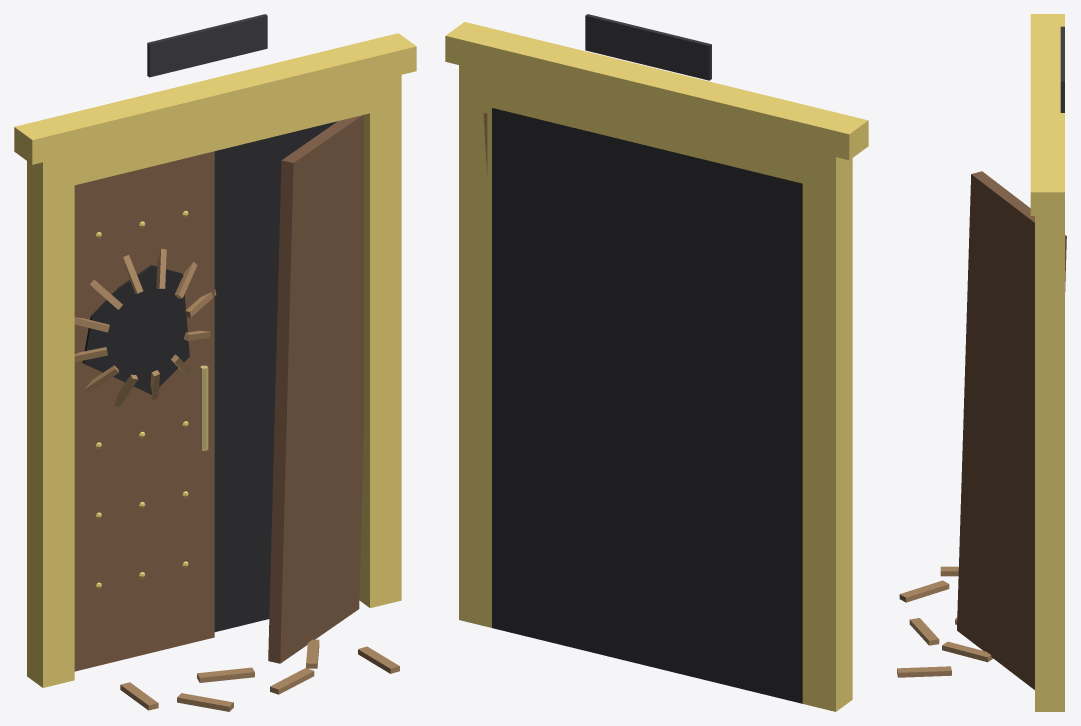
The model's file is HJ_PuertaAticoRota.fbx.
3 views of the same model, side by side, from view 1: azimuth 30°, elevation 25°; view 2: azimuth 150°, elevation 25°; view 3: azimuth 270°, elevation 25° (orthographic). The views are drawn at different scales.
Visible parts, largest first — view 1: HJ_PuertaAticoRota; view 2: HJ_PuertaAticoRota; view 3: HJ_PuertaAticoRota.
Part boxes in pixels (box(x1,y1,x2,y2)): HJ_PuertaAticoRota: box(14, 14, 416, 711); HJ_PuertaAticoRota: box(445, 14, 868, 711); HJ_PuertaAticoRota: box(897, 14, 1066, 711).
Size of the model in its own units: 1.95 by 2.94 by 0.7849.
